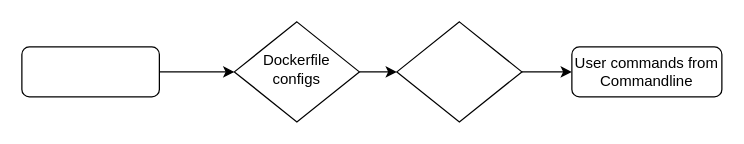
Image size: 744x144. Some labels were removed from this diagram. The shapes that lost their labels are listed below. From the top down, each one's box as (x1, y1, x2, y2) in pixels, then its label:
(21, 46, 159, 97): Dockerfile
(396, 21, 522, 122): Entrypoint
